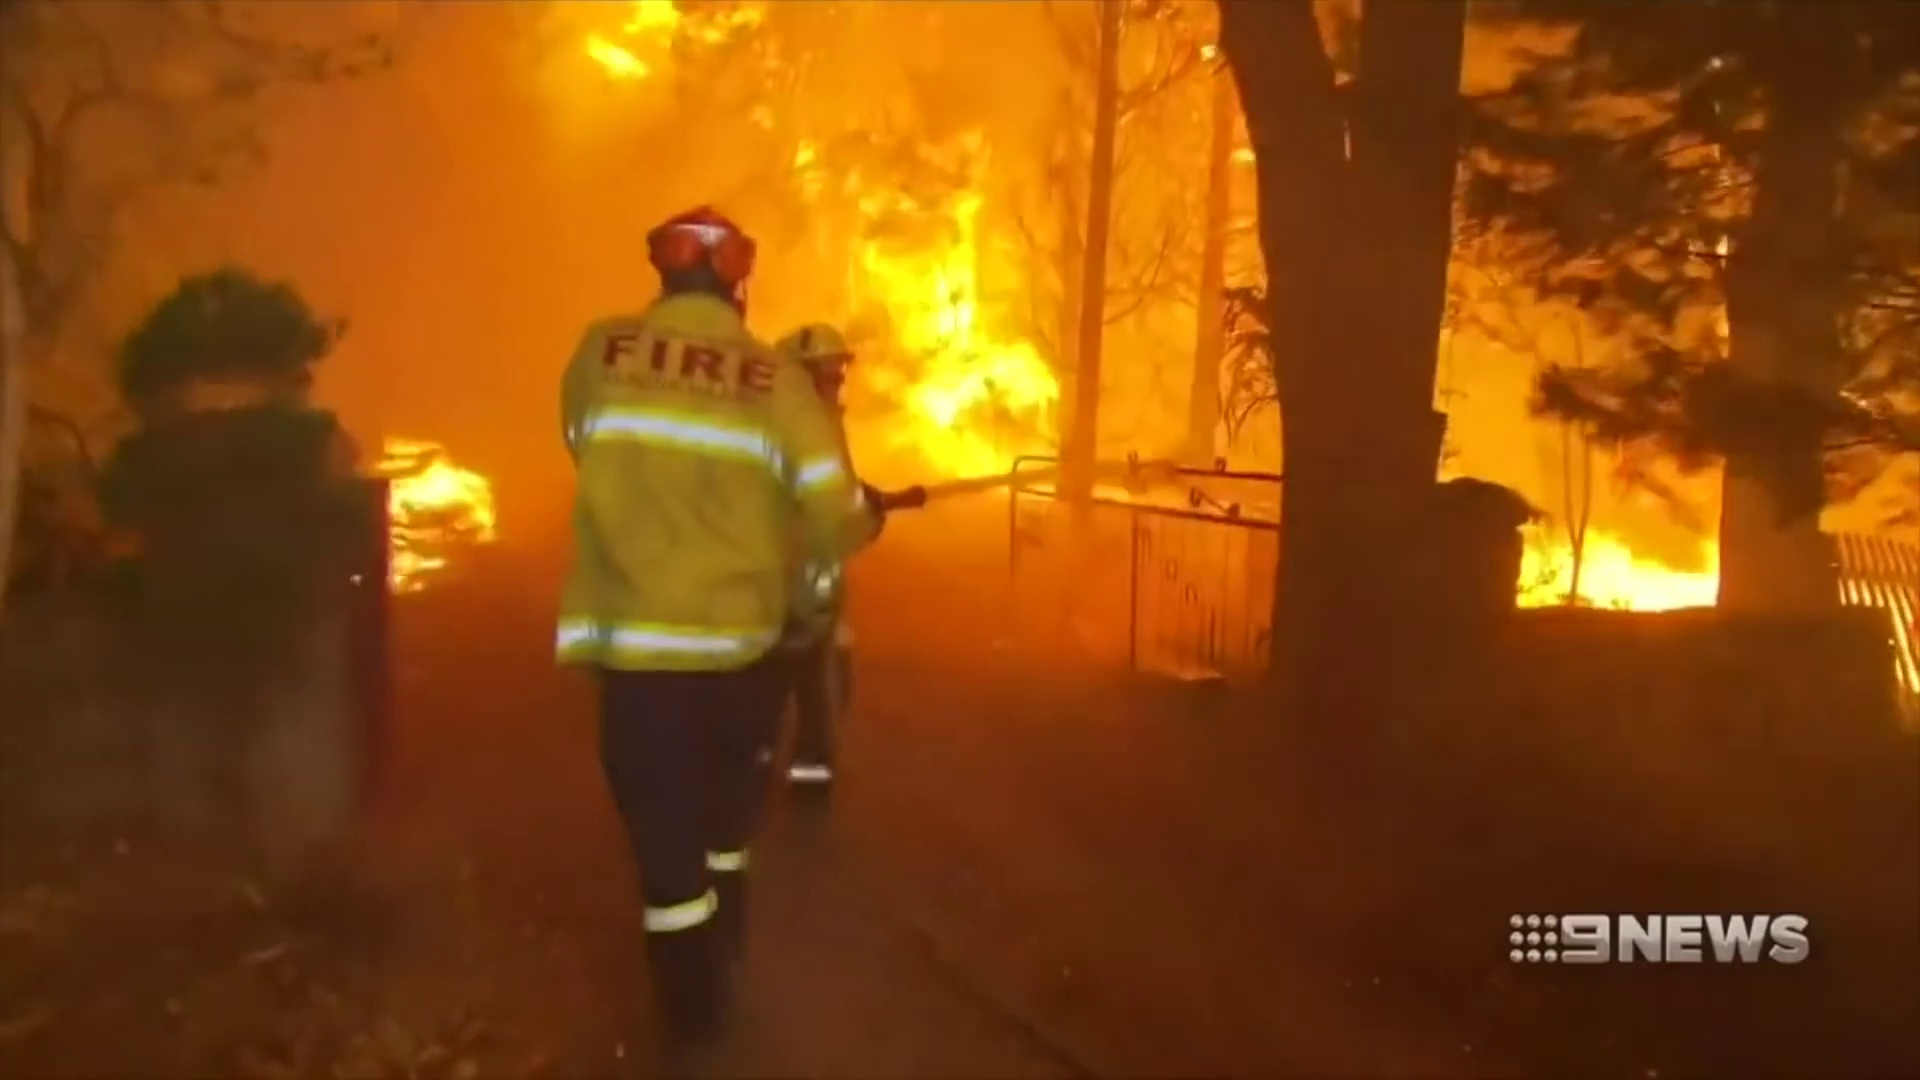fire: (851, 218, 1055, 465), (1524, 530, 1724, 615), (389, 462, 489, 585), (595, 36, 655, 75), (630, 1, 690, 26)
